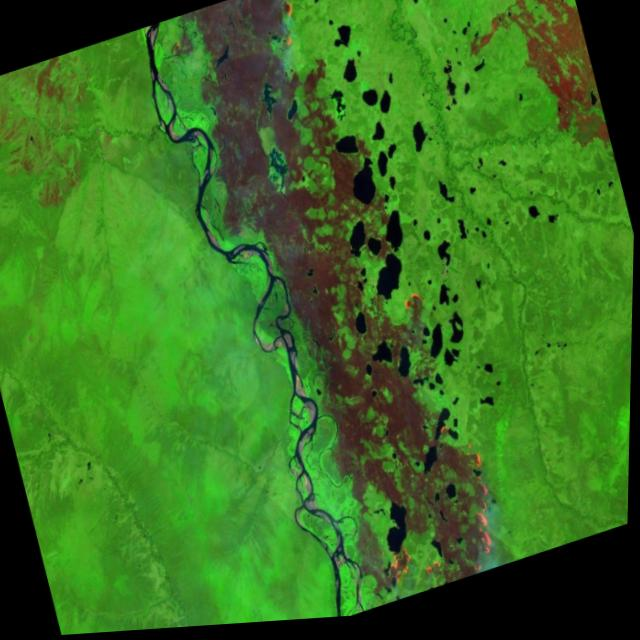fire: (429, 416, 514, 585), (267, 0, 310, 56), (382, 547, 425, 598), (399, 287, 431, 324), (421, 558, 450, 590)
